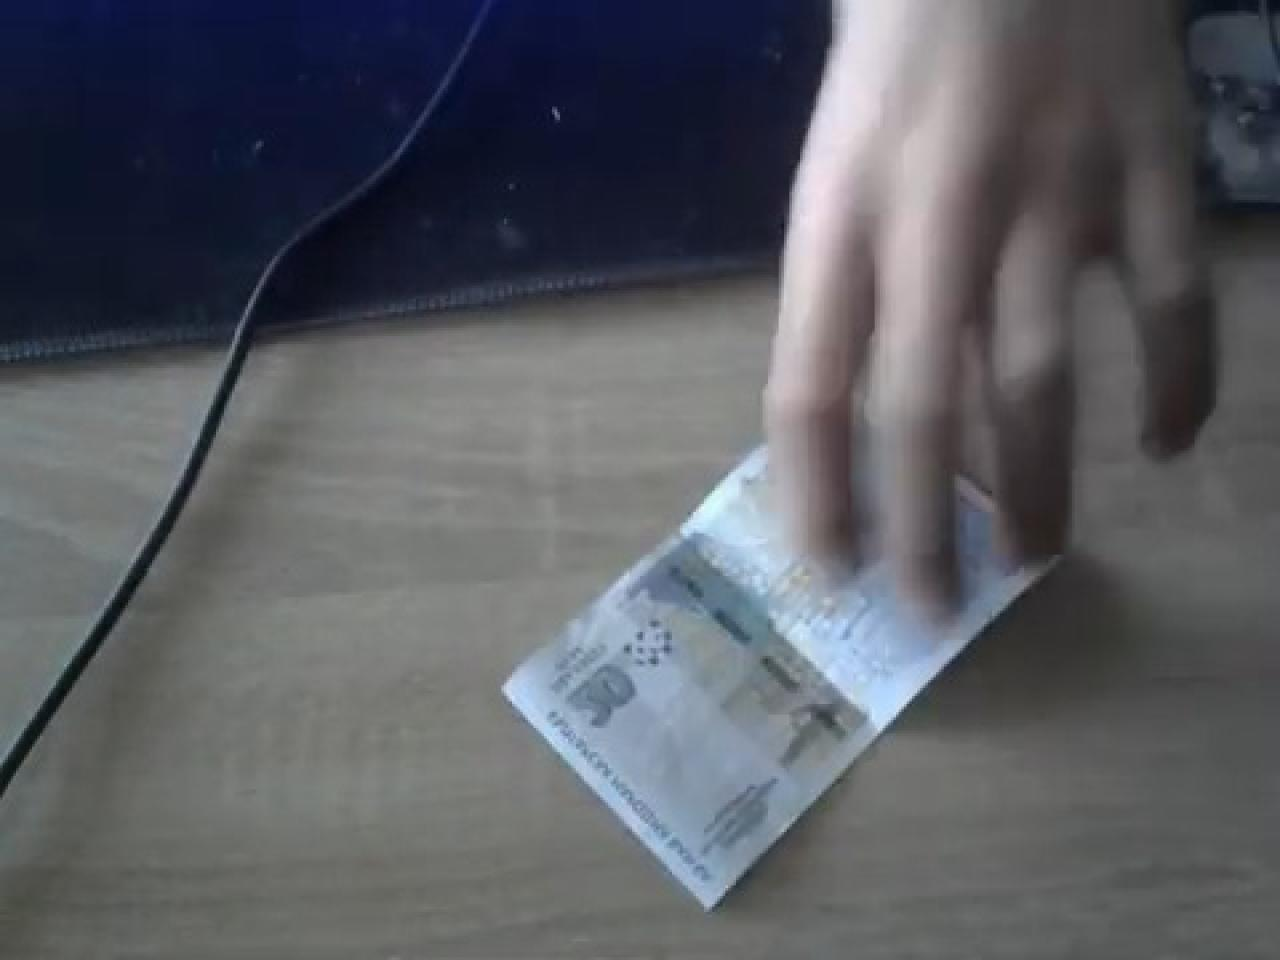20leva: (501, 0, 1181, 915)
